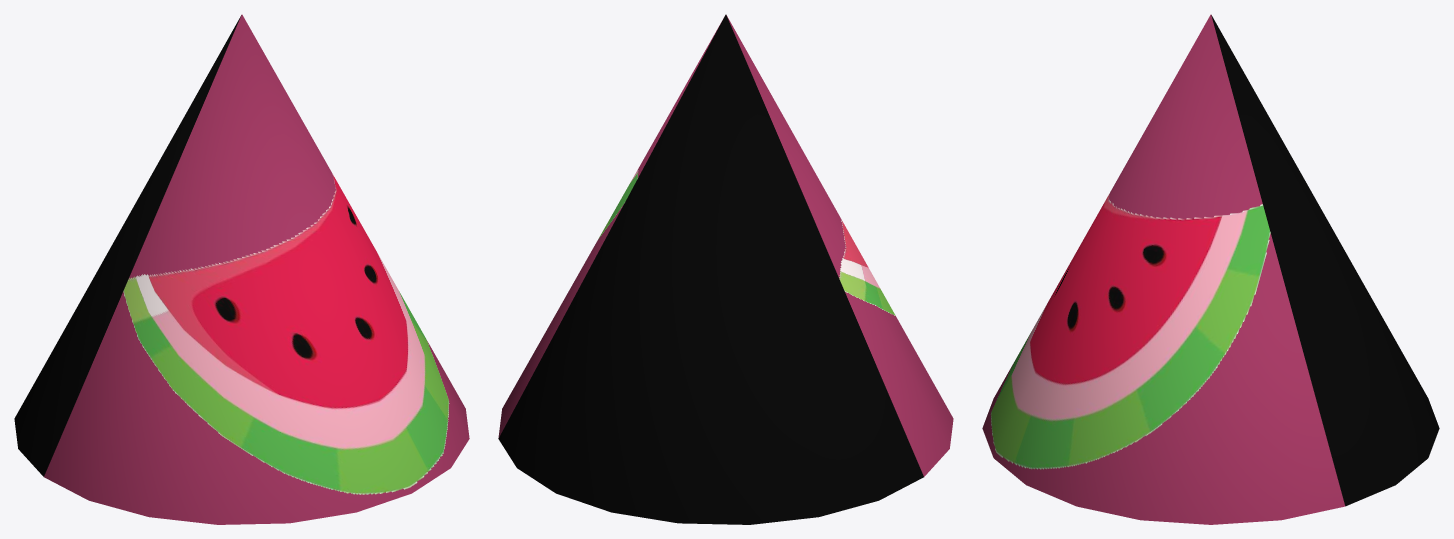
The model's file is cono3.obj.
The picture shows the model from 3 angles, left to right: view 1: azimuth 30°, elevation 25°; view 2: azimuth 150°, elevation 25°; view 3: azimuth 270°, elevation 25°; orthographic projection.
Parts seen in each view (by area): view 1: pCone1; view 2: pCone1; view 3: pCone1.
Boxes of the visible parts, x1=… form: pCone1: x1=14, y1=14, x2=469, y2=524; pCone1: x1=498, y1=14, x2=953, y2=524; pCone1: x1=982, y1=14, x2=1439, y2=524.
Size of the model in its own units: 6.62 by 6.62 by 6.62.
